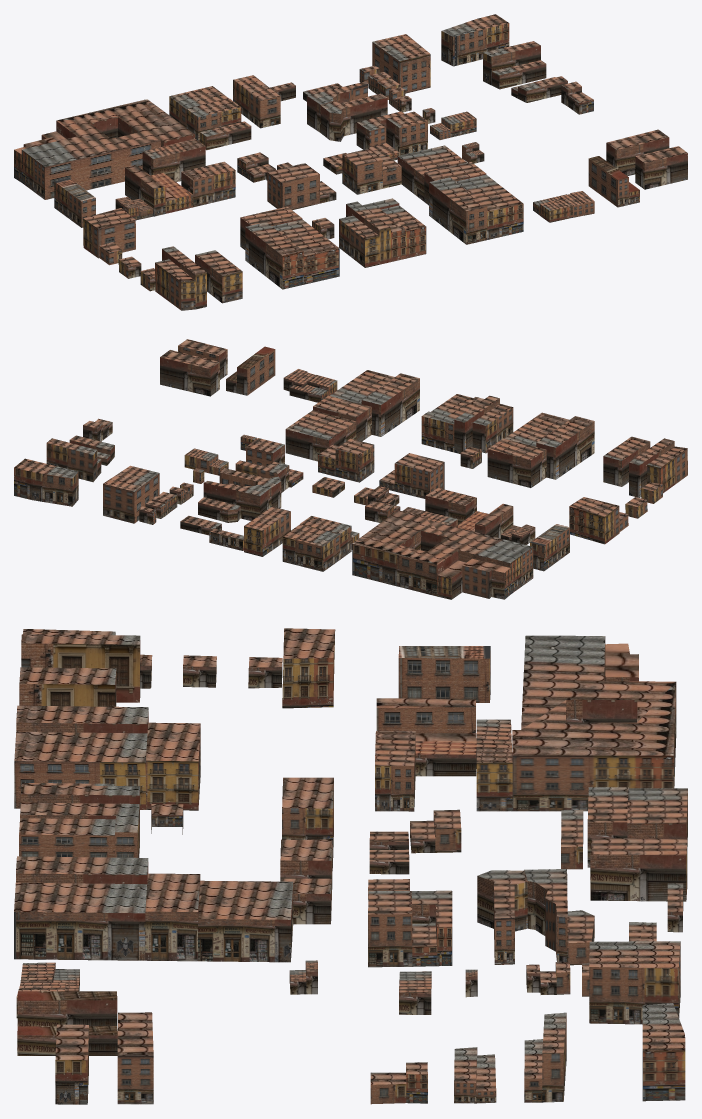
Rendered from Edificios_atlas02.fbx.
3 renders of one model, top to bottom at view 1: azimuth 30°, elevation 25°; view 2: azimuth 150°, elevation 25°; view 3: azimuth 270°, elevation 25°, orthographic. The views are drawn at different scales.
Visible parts, largest first — view 1: map_2.osm_buildings.173, map_2.osm_buildings.042, map_2.osm_buildings.182, map_2.osm_buildings.082, map_2.osm_buildings.121, map_2.osm_buildings.181, map_2.osm_buildings.041, map_2.osm_buildings.019, map_2.osm_buildings.023, map_2.osm_buildings.178, map_2.osm_buildings.171, map_2.osm_buildings.140 (+32 smaller); view 2: map_2.osm_buildings.173, map_2.osm_buildings.082, map_2.osm_buildings.050, map_2.osm_buildings.121, map_2.osm_buildings.182, map_2.osm_buildings.204, map_2.osm_buildings.042, map_2.osm_buildings.142, map_2.osm_buildings.101, map_2.osm_buildings.178, map_2.osm_buildings.019, map_2.osm_buildings.140 (+33 smaller); view 3: map_2.osm_buildings.173, map_2.osm_buildings.041, map_2.osm_buildings.050, map_2.osm_buildings.181, map_2.osm_buildings.121, map_2.osm_buildings.140, map_2.osm_buildings.108, map_2.osm_buildings.185, map_2.osm_buildings.113, map_2.osm_buildings.204, map_2.osm_buildings.178, map_2.osm_buildings.082 (+41 smaller).
Boxes of the visible parts, bbox=[...] form: map_2.osm_buildings.173: bbox=[21, 99, 194, 199]; map_2.osm_buildings.042: bbox=[429, 177, 487, 244]; map_2.osm_buildings.182: bbox=[245, 222, 303, 289]; map_2.osm_buildings.082: bbox=[441, 14, 509, 66]; map_2.osm_buildings.121: bbox=[372, 34, 430, 93]; map_2.osm_buildings.181: bbox=[272, 219, 339, 284]; map_2.osm_buildings.041: bbox=[456, 174, 523, 239]; map_2.osm_buildings.019: bbox=[267, 163, 319, 210]; map_2.osm_buildings.023: bbox=[321, 93, 387, 141]; map_2.osm_buildings.178: bbox=[83, 208, 135, 258]; map_2.osm_buildings.171: bbox=[142, 138, 205, 182]; map_2.osm_buildings.140: bbox=[233, 75, 280, 128]; map_2.osm_buildings.173: bbox=[352, 510, 533, 596]; map_2.osm_buildings.082: bbox=[14, 458, 78, 506]; map_2.osm_buildings.050: bbox=[285, 410, 356, 461]; map_2.osm_buildings.121: bbox=[103, 465, 159, 523]; map_2.osm_buildings.182: bbox=[536, 416, 594, 479]; map_2.osm_buildings.204: bbox=[487, 438, 546, 487]; map_2.osm_buildings.042: bbox=[361, 373, 419, 436]; map_2.osm_buildings.142: bbox=[282, 524, 340, 571]; map_2.osm_buildings.101: bbox=[160, 350, 219, 396]; map_2.osm_buildings.178: bbox=[569, 497, 619, 544]; map_2.osm_buildings.019: bbox=[394, 453, 444, 498]; map_2.osm_buildings.140: bbox=[244, 506, 290, 556]; map_2.osm_buildings.173: bbox=[512, 635, 676, 811]; map_2.osm_buildings.041: bbox=[14, 882, 147, 960]; map_2.osm_buildings.050: bbox=[198, 880, 293, 962]; map_2.osm_buildings.181: bbox=[14, 732, 147, 809]; map_2.osm_buildings.121: bbox=[589, 941, 680, 1024]; map_2.osm_buildings.140: bbox=[590, 838, 687, 901]; map_2.osm_buildings.108: bbox=[398, 646, 490, 702]; map_2.osm_buildings.185: bbox=[21, 634, 140, 702]; map_2.osm_buildings.113: bbox=[145, 873, 200, 961]; map_2.osm_buildings.204: bbox=[146, 722, 200, 810]; map_2.osm_buildings.178: bbox=[282, 628, 335, 708]; map_2.osm_buildings.082: bbox=[642, 1003, 685, 1101].
Bounding box in the file's own units: 32125 × 2119 × 21347.
